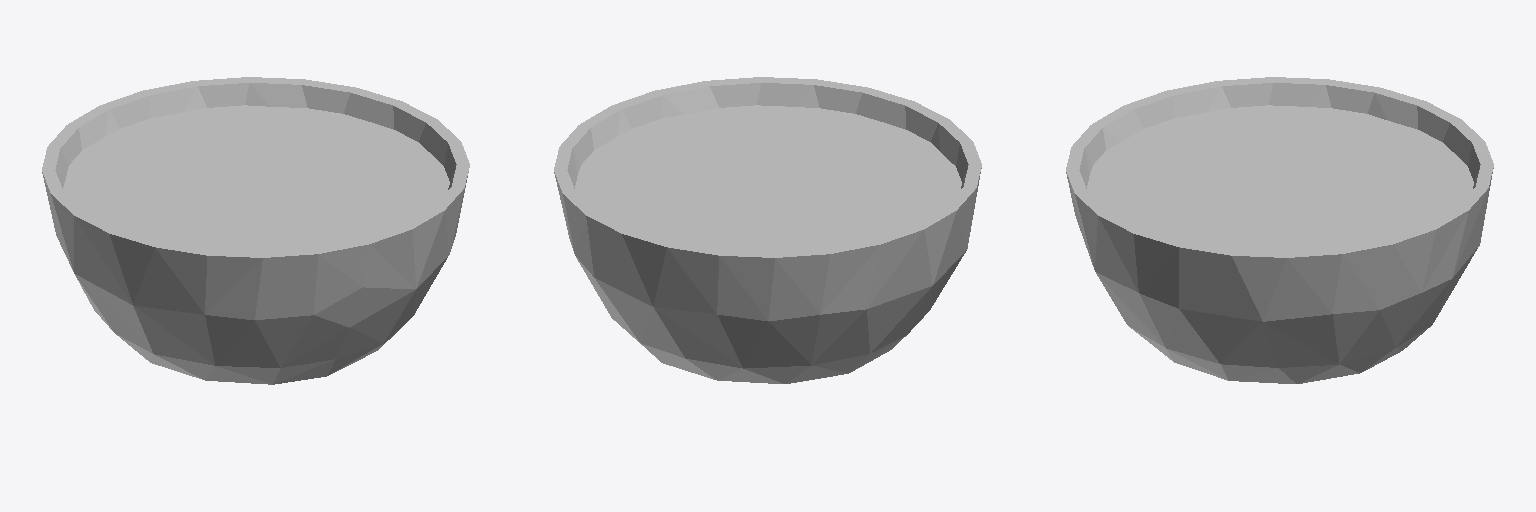
File: bowl.obj
The picture shows the model from 3 angles: view 1: azimuth 30°, elevation 25°; view 2: azimuth 150°, elevation 25°; view 3: azimuth 270°, elevation 25°; orthographic projection.
Parts seen in each view (by area): view 1: SM_ClayBowl_01; view 2: SM_ClayBowl_01; view 3: SM_ClayBowl_01.
Boxes of the visible parts, x1,y1,x2,y2 form: SM_ClayBowl_01: [42, 77, 469, 384]; SM_ClayBowl_01: [554, 77, 981, 383]; SM_ClayBowl_01: [1066, 77, 1493, 383].
Bounding box in the file's own units: 0.0907 × 0.0413 × 0.0907.